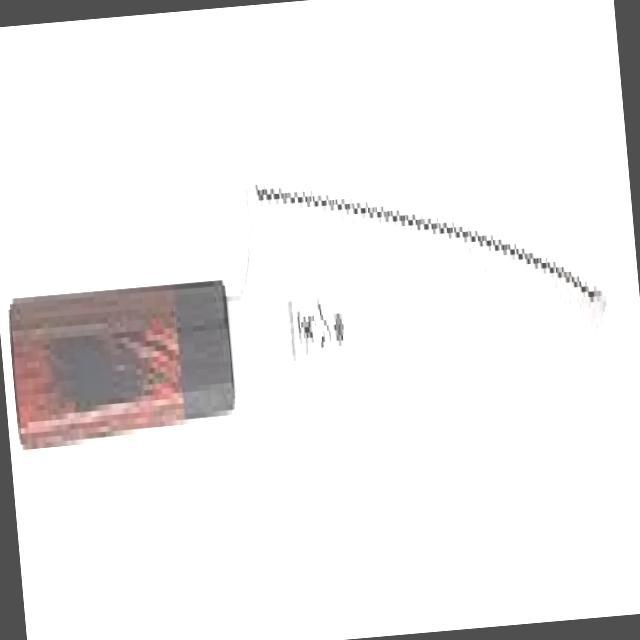Knife: (0, 0, 640, 557)
